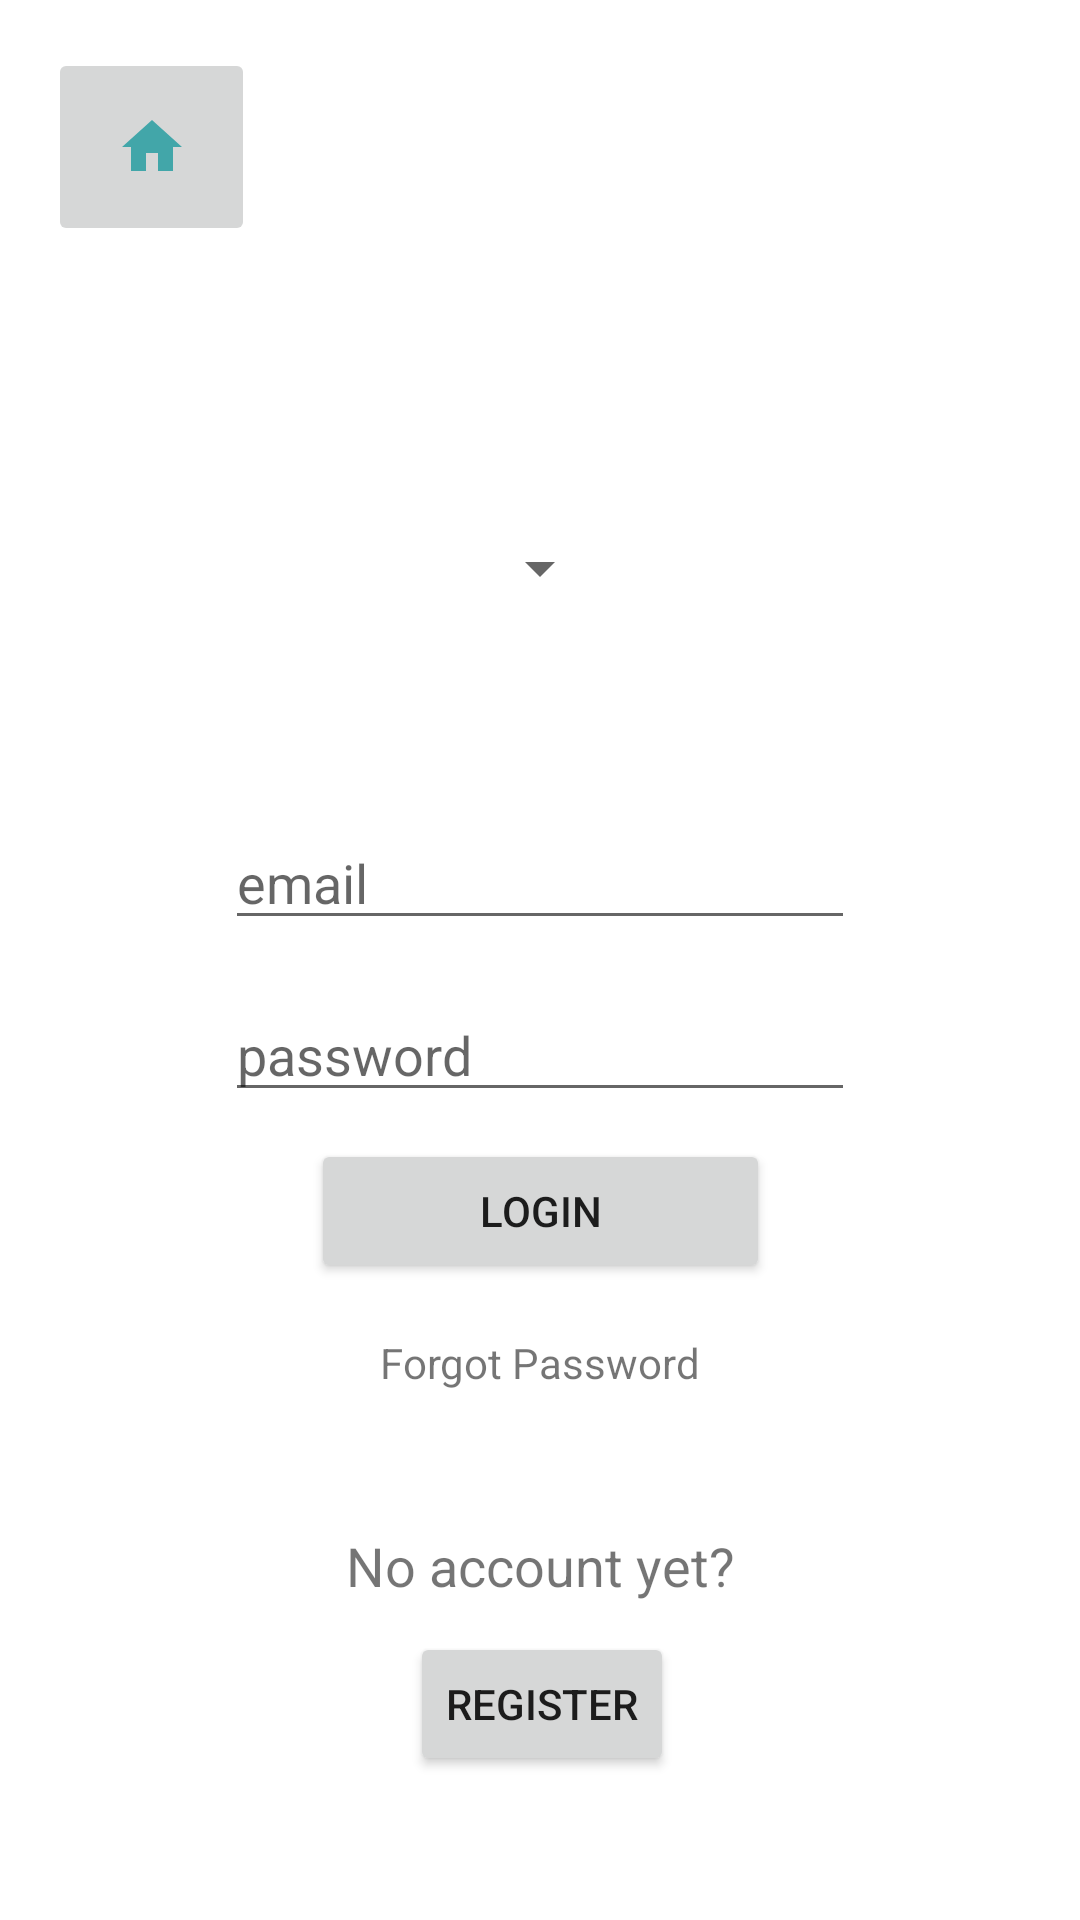

Where to tap for icons on this 1080px x 1920px app screen, as point (x, y):
home: point (151, 147)
